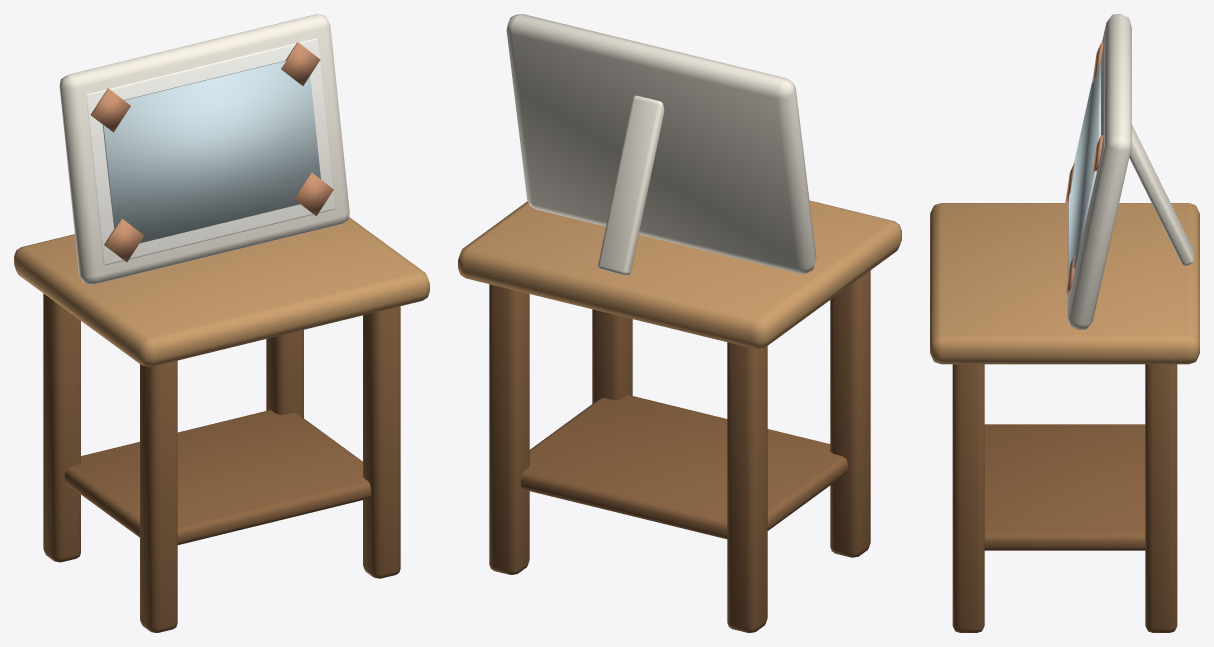
The model's file is album-frame.glb.
The picture shows the model from 3 angles, left to right: view 1: azimuth 30°, elevation 25°; view 2: azimuth 150°, elevation 25°; view 3: azimuth 270°, elevation 25°; orthographic projection. The views are drawn at different scales.
Parts seen in each view (by area): view 1: table, frame, photo; view 2: table, frame; view 3: table, frame, photo.
Part boxes in pixels (<box>): table: <box>14,217,429,632</box>; frame: <box>59,14,349,284</box>; photo: <box>103,61,320,243</box>; table: <box>458,200,901,632</box>; frame: <box>506,14,816,275</box>; table: <box>930,203,1199,632</box>; frame: <box>1065,14,1193,329</box>; photo: <box>1069,62,1100,275</box>.
Size of the model in its own units: 0.52 by 0.8586 by 0.42.
